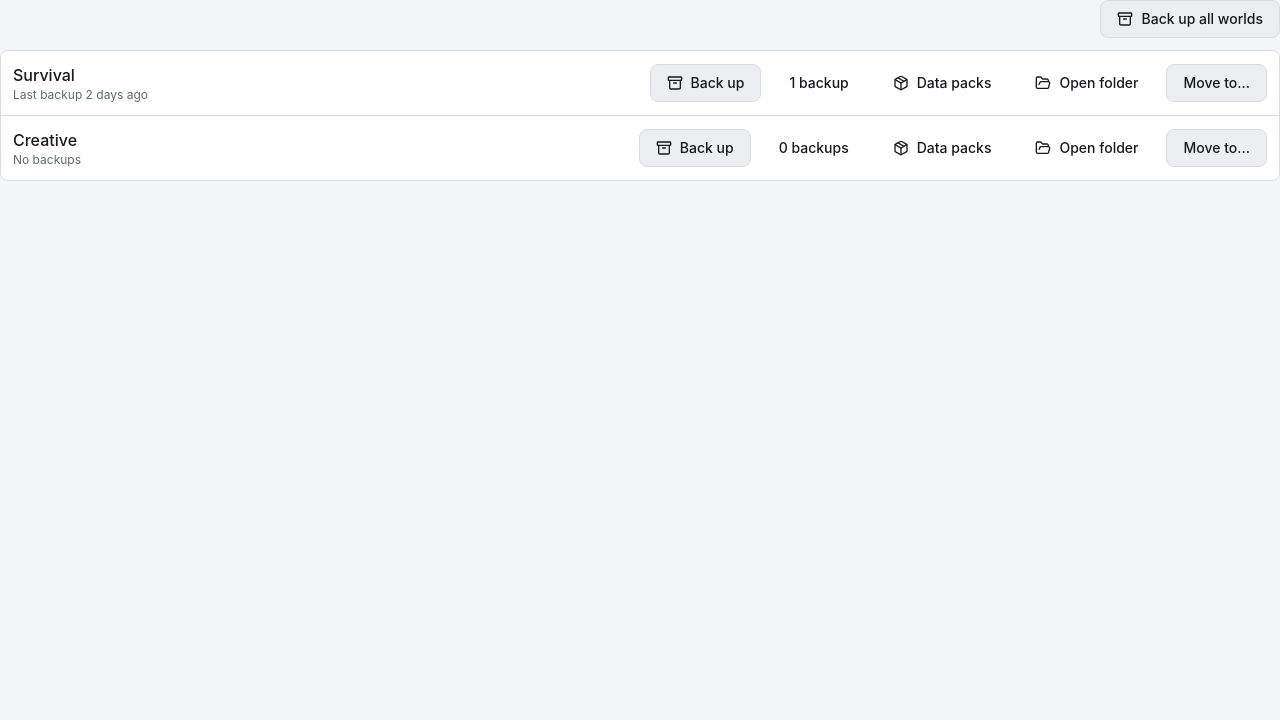
Test: WorldsTab backups › lists a world's backups and restores one as a new world
Click the button "1 backup". click: (819, 83)
box: [773,65,865,101]
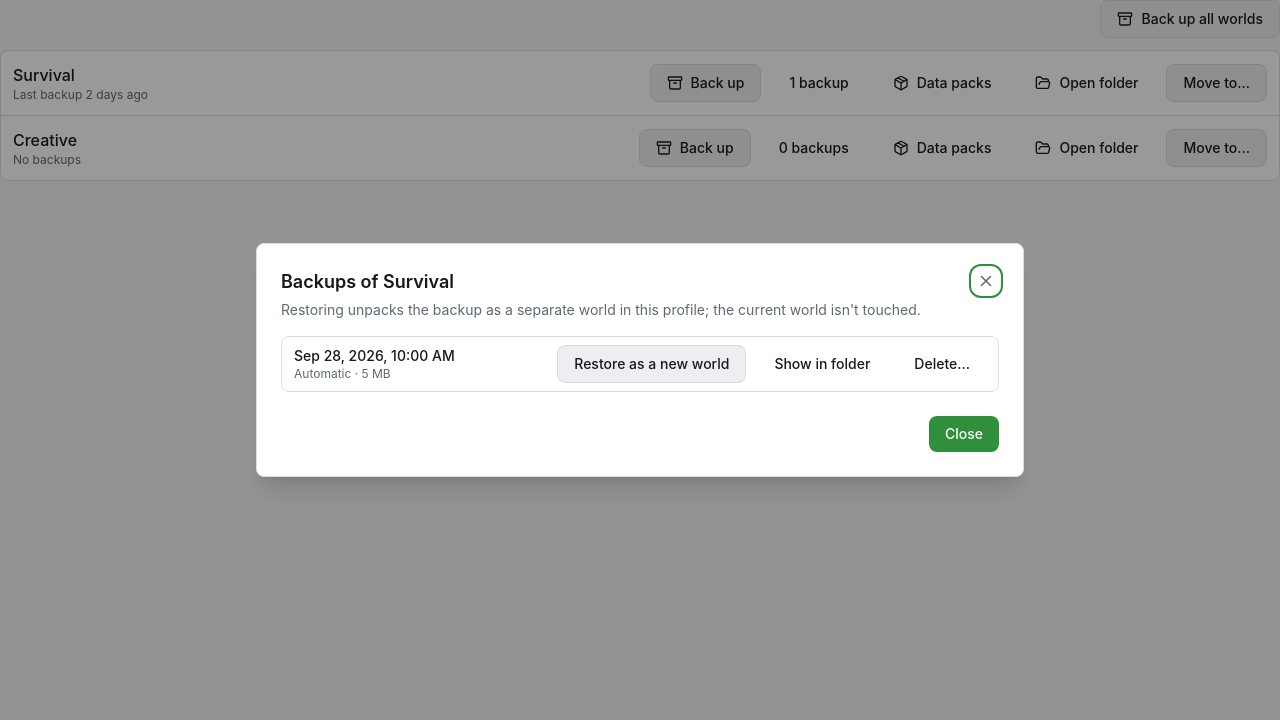
Expected: the text "Automatic · 5 MB" is shown, [294,366,391,381]
Click the button "Restore as a new world". click: (652, 364)
box: [557,345,746,383]
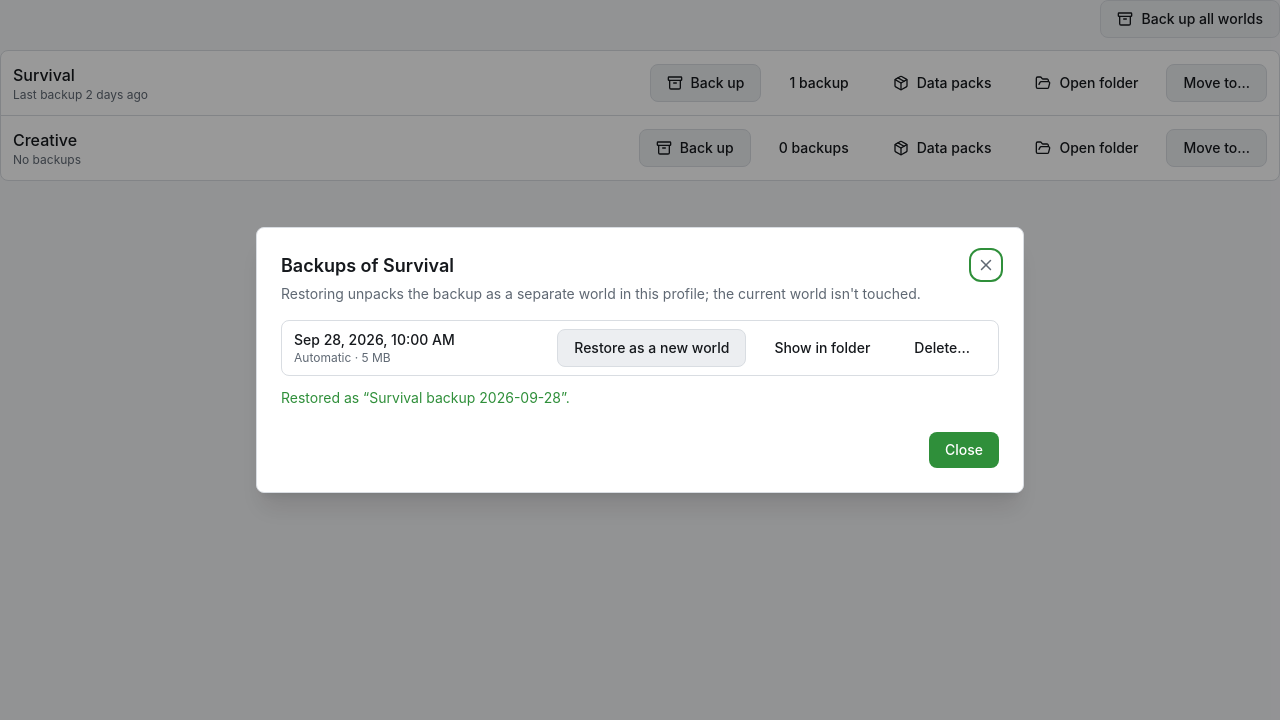
Expected: the text "Restored as “Survival backup 2026-09-28”." is shown, [281,389,570,406]
